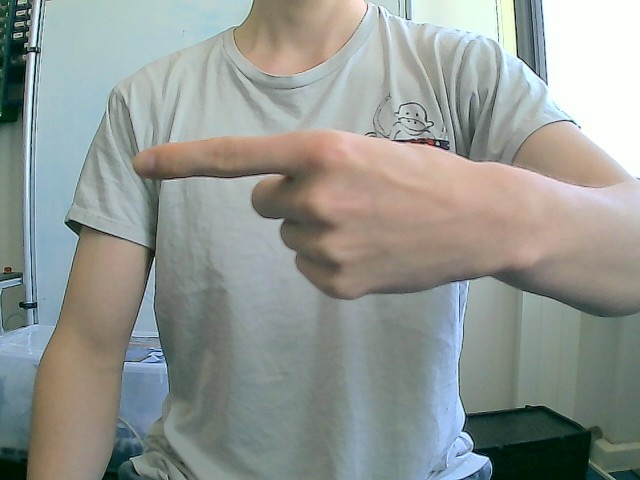right: (131, 127, 506, 302)
